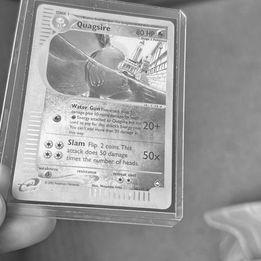card: (10, 3, 176, 210)
